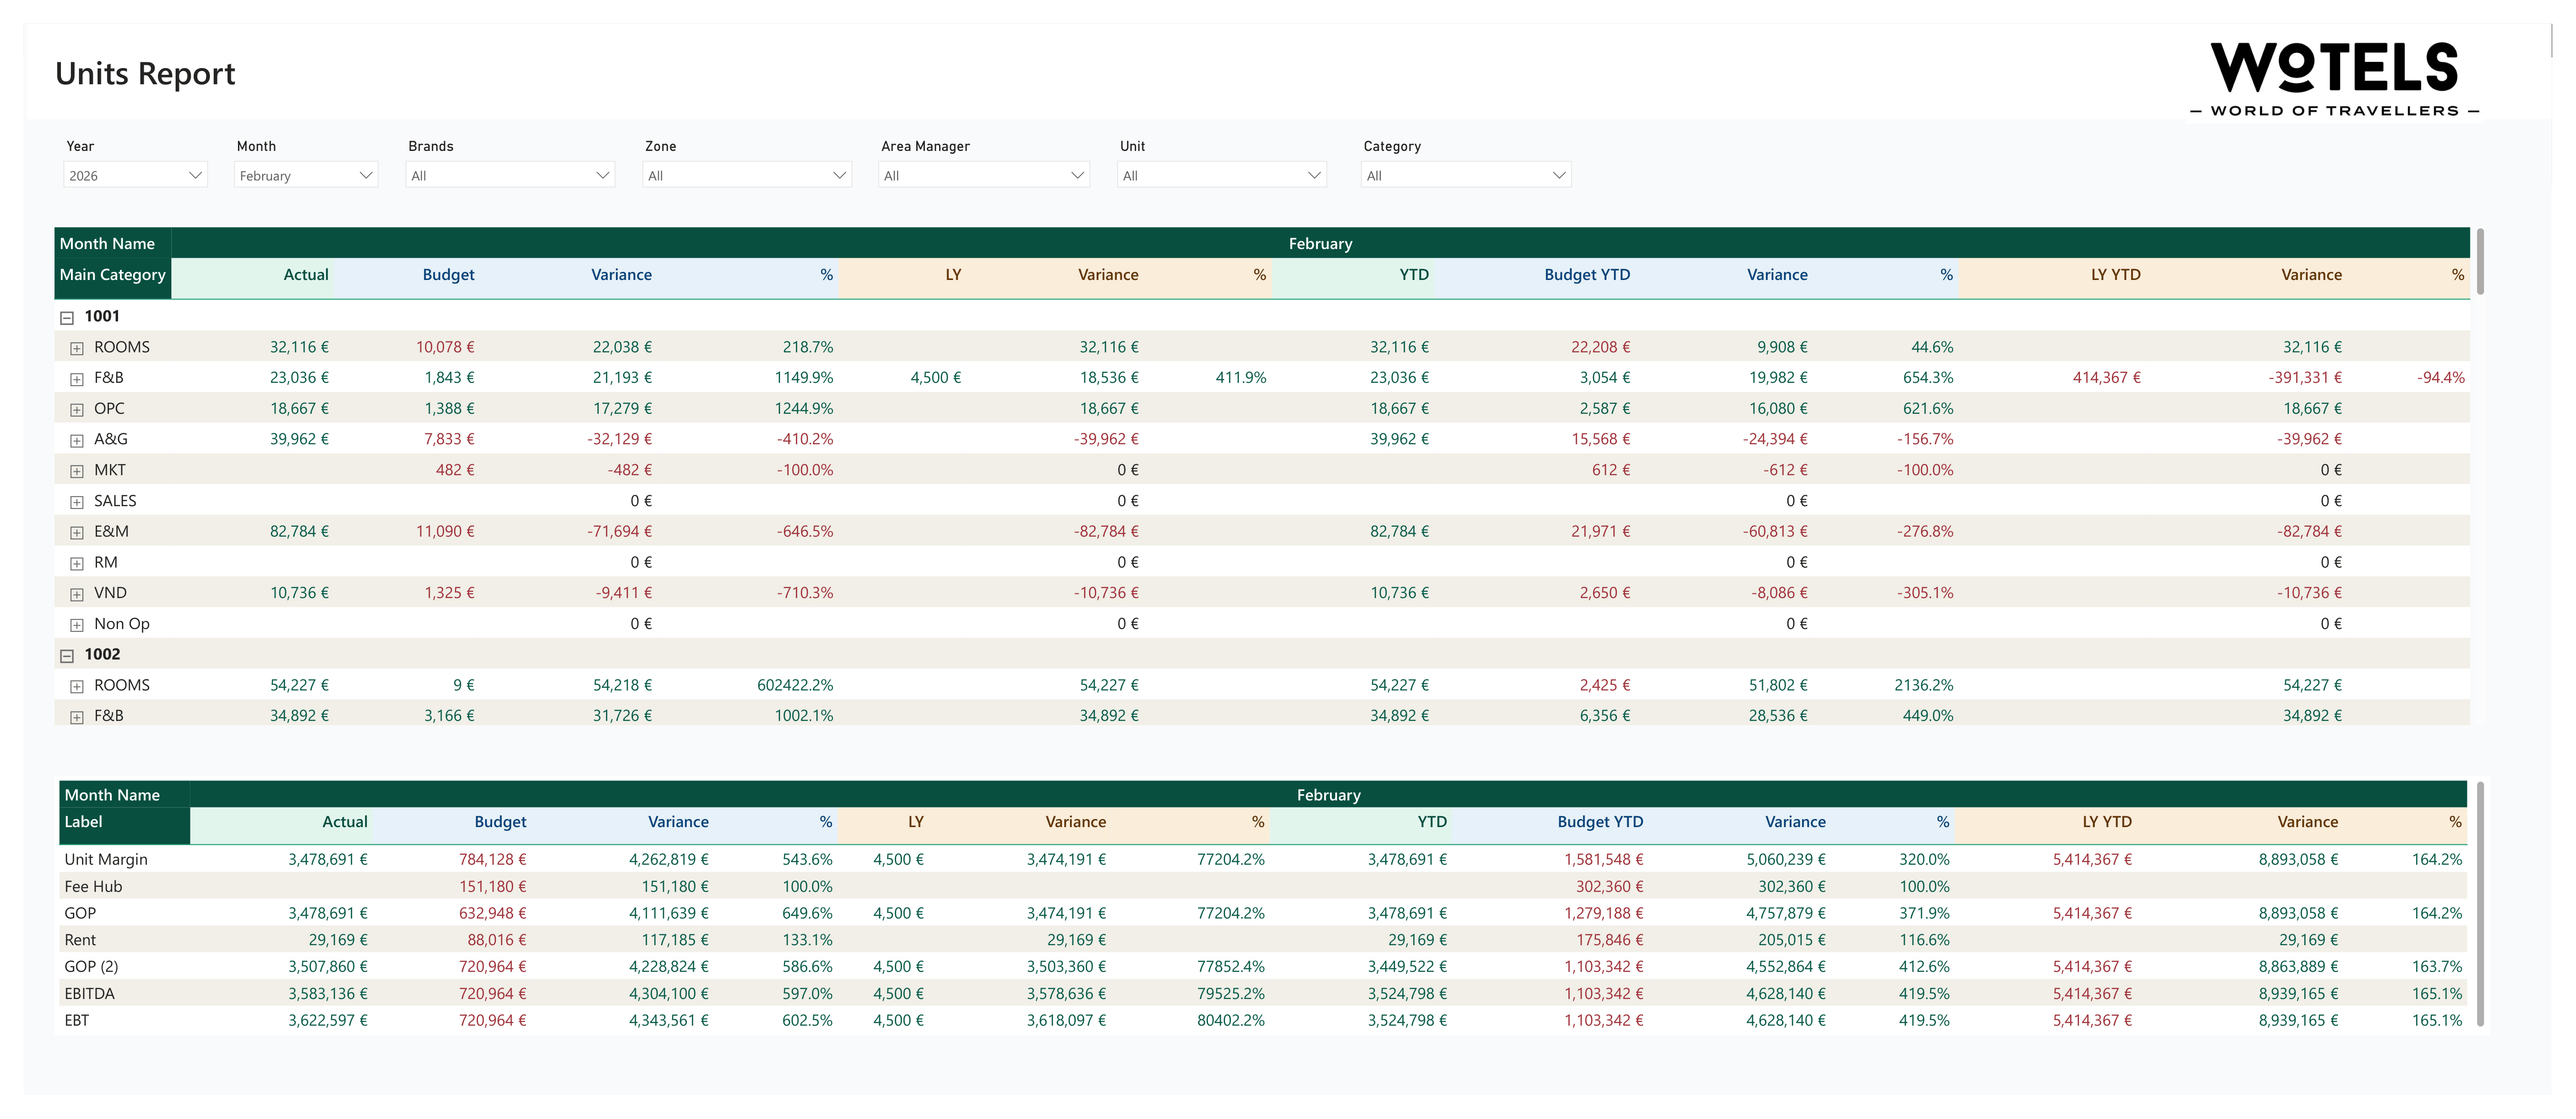

Layout of this report page (visuals, bound fields, positions):
{"tool":"powerbi","page":{"name":"Units Report","canvas":[2550,1080],"ordinal":2},"visuals":[{"type":"group","id":"g1","title":"Background Shapes","box":[3,0,2797.9,100],"z":0},{"type":"shape","box":[3,0,2797.9,95.9],"z":1000,"group":"g1"},{"type":"pivotTable","fields":{"Columns":["DateTable.Month Name"],"Rows":["cost_centers.Main Category","Category Sort Table.Category","cost_centers.Sub Category (1)","cost_centers.Sub Category (2)","cost_centers.Sub Category (3)","cost_centers.Sub Category (4)","cost_centers.Cost Center Description"],"Values":["KPIs.Actual P&L","KPI_Finance.Budget P&L","KPI_Finance.Budget Variance","KPI_Finance.Budget Variance %","KPI_Finance.Actual P&L LY","KPI_Finance.LY P&L Variance","KPI_Finance.Unit LY Variance %","KPIs.Actual P&L YTD","KPI_Finance.Budget YTD","KPI_Finance.Budget Variance YTD","KPI_Finance.Budget Variance % YTD","KPI_Finance.LY YTD"]},"box":[25.6,200,2462.2,512.2],"z":1000},{"type":"image","box":[2174.2,3.3,313.3,96.7],"z":2000,"group":"g1"},{"type":"slicer","fields":{"Values":["DateTable.Year"]},"box":[29.6,109.7,166,76.8],"z":2000},{"type":"textbox","box":[26.4,20.7,357.5,62.2],"z":3000,"group":"g1"},{"type":"slicer","fields":{"Values":["units.CODE ID"]},"box":[1093,109.7,232.3,76.8],"z":3000},{"type":"slicer","fields":{"Values":["Category Sort Table.Category"]},"box":[1338.6,110,233.6,76.4],"z":4000},{"type":"slicer","fields":{"Values":["units.Brands"]},"box":[374.7,109.7,232.3,76.8],"z":5000},{"type":"slicer","fields":{"Values":["units.ZONE"]},"box":[613.5,109.7,232.3,76.8],"z":6000},{"type":"slicer","fields":{"Values":["units.Area Manager"]},"box":[852.3,109.7,234.1,76.8],"z":7000},{"type":"slicer","fields":{"Values":["DateTable.Month Name"]},"box":[202.2,109.7,166,76.8],"z":8000},{"type":"pivotTable","fields":{"Columns":["DateTable.Month Name"],"Rows":["Footer_Table.Label"],"Values":["Footer_Table.Footer_Value","Footer_Table.Budget F","Footer_Table.Budget Variance F","Footer_Table.Budget Variance F %","Footer_Table.LY","Footer_Table.LY Variance F","Footer_Table.LY Variance F %","Footer_Table.YTD","Footer_Table.Budget YTD F","Footer_Table.Budget Variance YTD F","Footer_Table.Budget Variance YTD F %","Footer_Table.LY YTD F"]},"box":[31.1,757.8,2456.7,262.2],"z":9000}]}

Visuals, with their boxes on the page's 2550x1080 design canvas (x1, y1, x2, y2). These are canvas units, not pixel positions in the 2576x1119 screenshot, which may show the page scaled, cropped or inside an application window:
"Background Shapes" group: box=[3, 0, 2801, 100]
shape: box=[3, 0, 2801, 96]
pivotTable - DateTable.Month Name x cost_centers.Main Category: box=[26, 200, 2488, 712]
image: box=[2174, 3, 2488, 100]
slicer - DateTable.Year: box=[30, 110, 196, 186]
textbox: box=[26, 21, 384, 83]
slicer - units.CODE ID: box=[1093, 110, 1325, 186]
slicer - Category Sort Table.Category: box=[1339, 110, 1572, 186]
slicer - units.Brands: box=[375, 110, 607, 186]
slicer - units.ZONE: box=[614, 110, 846, 186]
slicer - units.Area Manager: box=[852, 110, 1086, 186]
slicer - DateTable.Month Name: box=[202, 110, 368, 186]
pivotTable - DateTable.Month Name x Footer_Table.Label: box=[31, 758, 2488, 1020]
